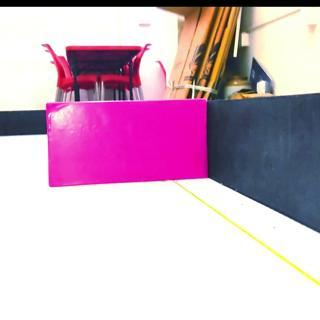xparking: (51, 106, 208, 188)
